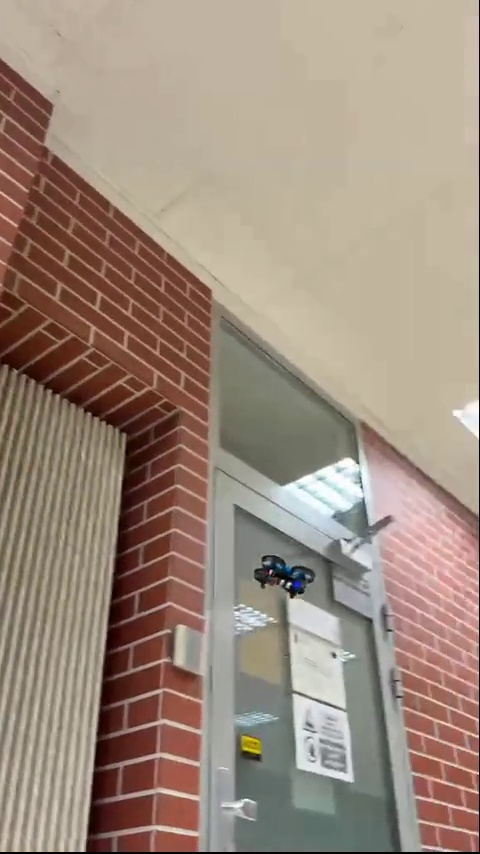drone: (258, 557, 315, 597)
